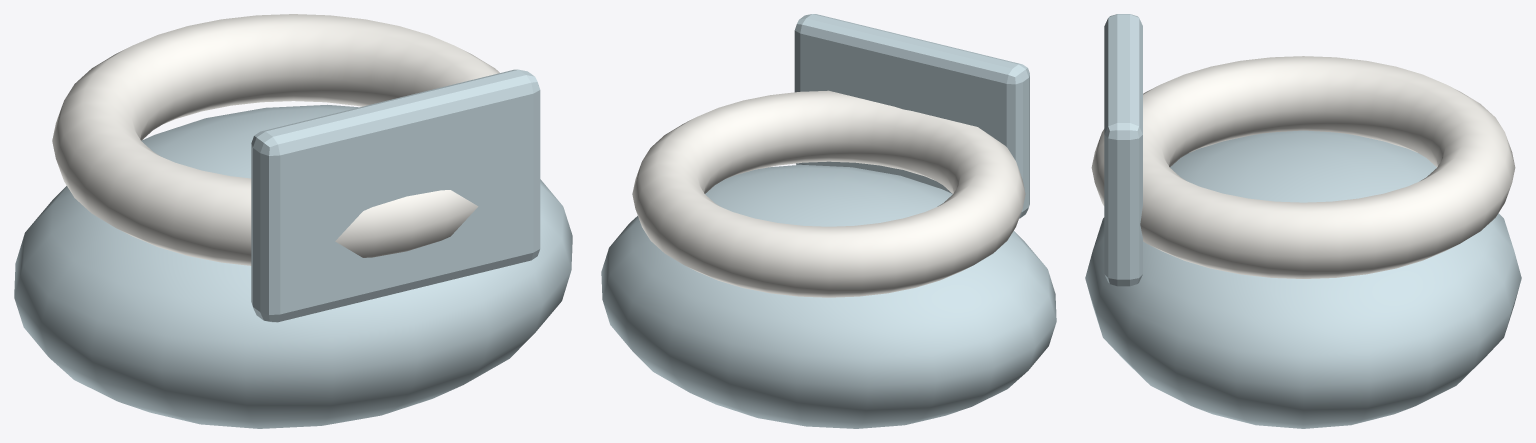
File: potty.glb
3 views of the same model, side by side, from view 1: azimuth 30°, elevation 25°; view 2: azimuth 150°, elevation 25°; view 3: azimuth 270°, elevation 25° (orthographic). The views are drawn at different scales.
Visible parts, largest first — view 1: Potty bowl, Potty seat, Potty splash; view 2: Potty bowl, Potty seat, Potty splash; view 3: Potty bowl, Potty seat, Potty splash.
Part boxes in pixels (x1=…): Potty bowl: x1=14, y1=104, x2=572, y2=428; Potty seat: x1=52, y1=14, x2=499, y2=265; Potty splash: x1=251, y1=69, x2=540, y2=322; Potty bowl: x1=601, y1=164, x2=1056, y2=428; Potty seat: x1=632, y1=90, x2=1025, y2=297; Potty splash: x1=794, y1=14, x2=1029, y2=218; Potty bowl: x1=1085, y1=130, x2=1521, y2=428; Potty seat: x1=1091, y1=56, x2=1515, y2=278; Potty splash: x1=1104, y1=14, x2=1142, y2=286.
Bounding box in the file's own units: 0.4 × 0.27 × 0.34.
